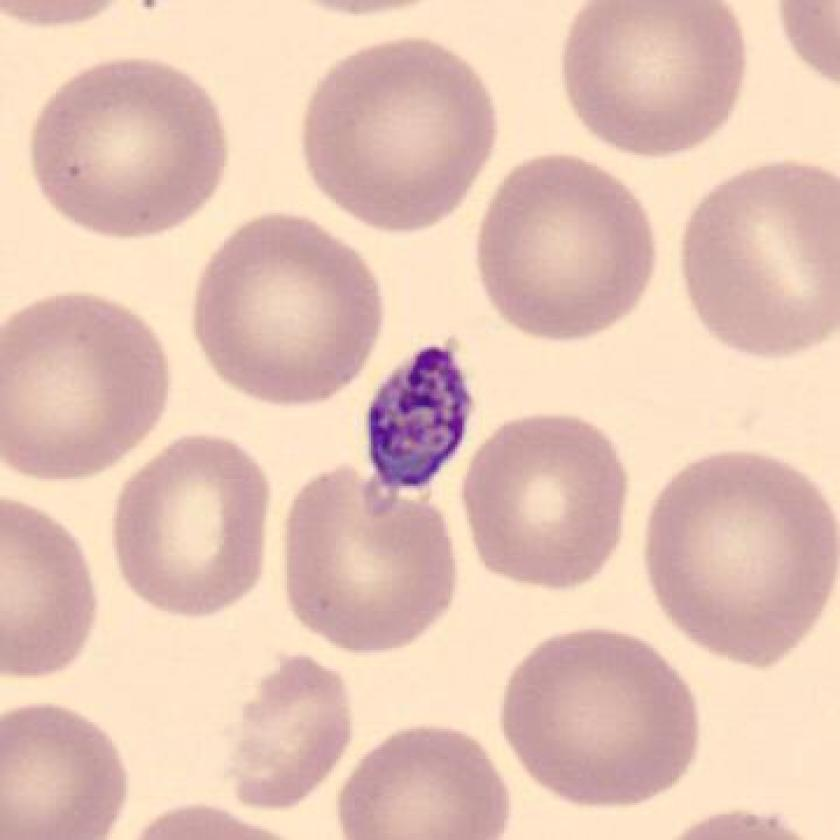platelets: (342, 330, 491, 506)
